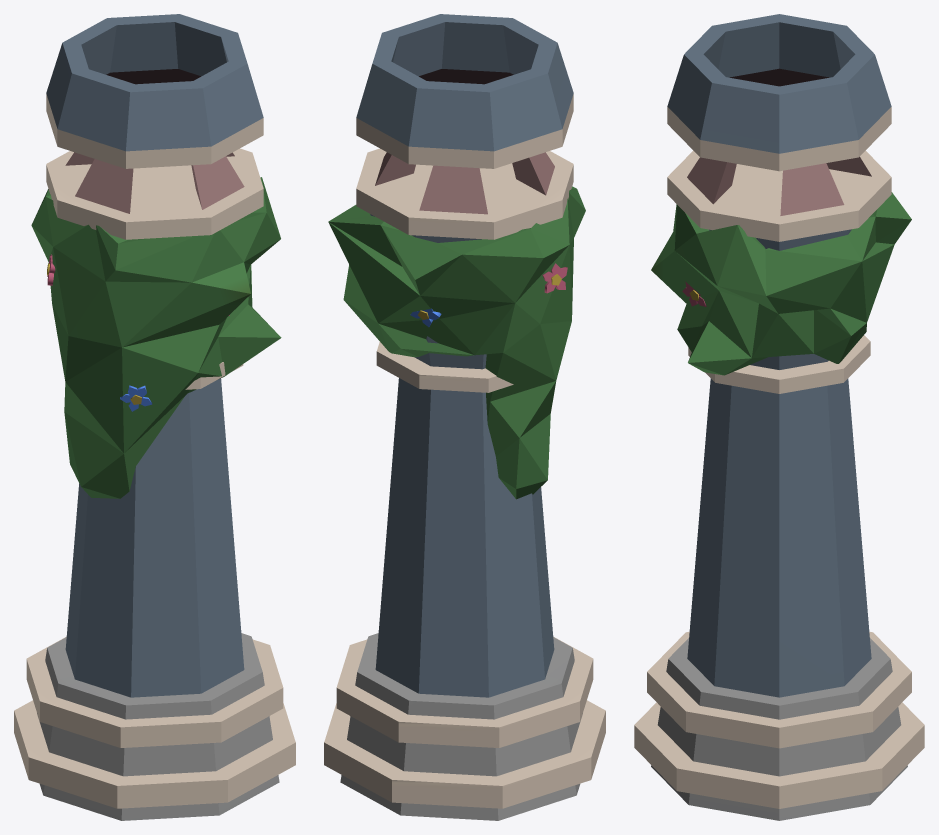
Rendered from Pillarmoss.FBX.
3 views of the same model, side by side, from view 1: azimuth 30°, elevation 25°; view 2: azimuth 150°, elevation 25°; view 3: azimuth 270°, elevation 25° (orthographic).
Visible parts, largest first — view 1: Cylinder002; view 2: Cylinder002; view 3: Cylinder002.
Part boxes in pixels (<box>): Cylinder002: <box>14,14,295,820</box>; Cylinder002: <box>324,14,605,820</box>; Cylinder002: <box>634,14,924,820</box>.
Bounding box in the file's own units: 32.58 × 88.17 × 32.58.
